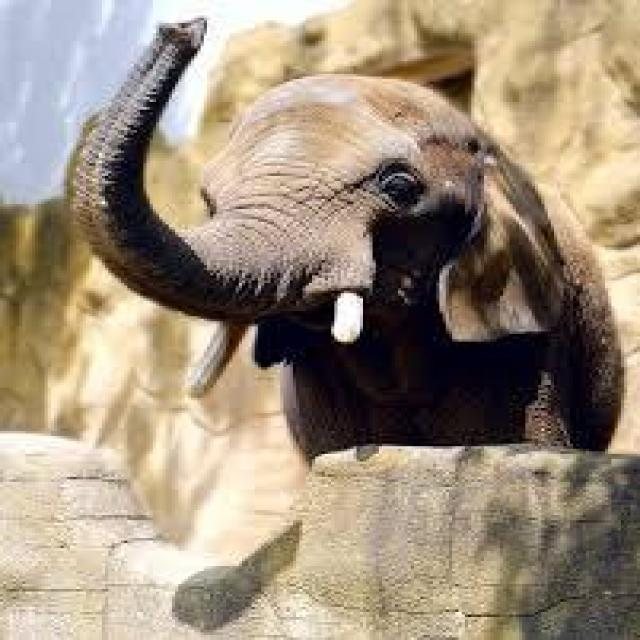Elephant: (67, 16, 621, 452)
